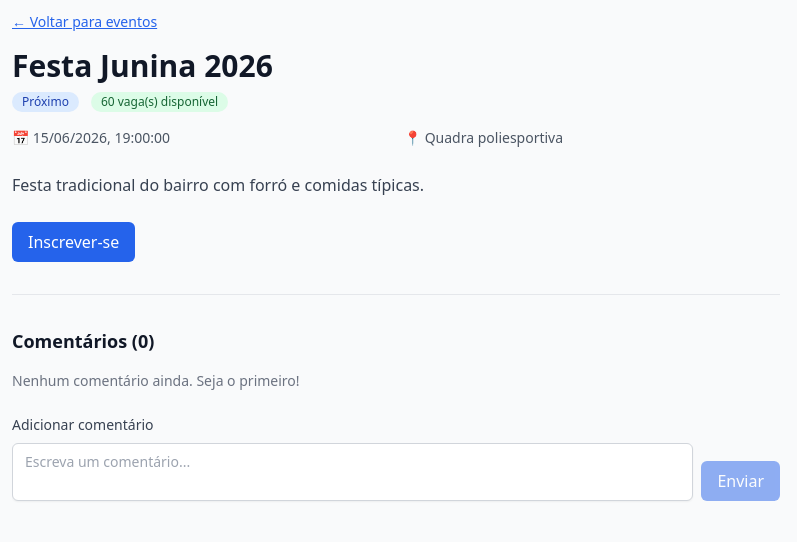
EventDetailPage — usuário autenticado › exibe status "Inscrito" após inscrição confirmada
What coordinates should you click on to do the following:
click the button "Inscrever-se"
I would click on:
 (74, 242)
Its box is [12,222,135,262].
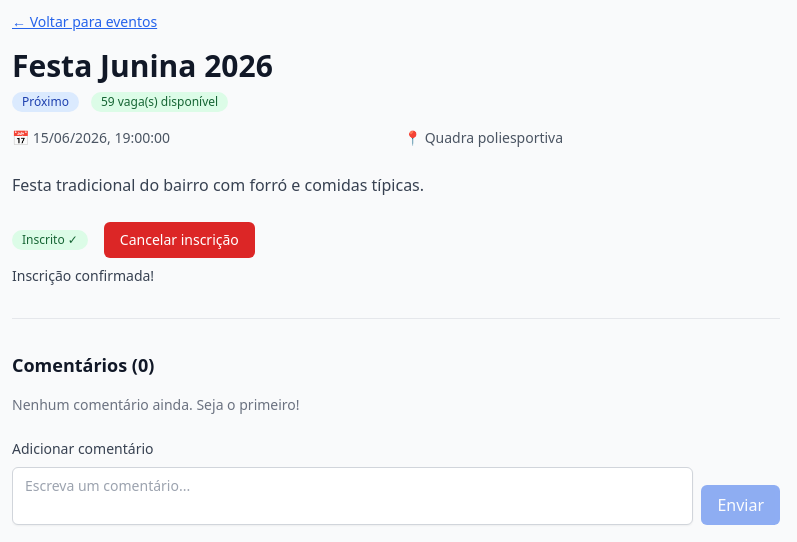
Result: the text "Inscrição confirmada!" is shown at [12,266,154,285]
